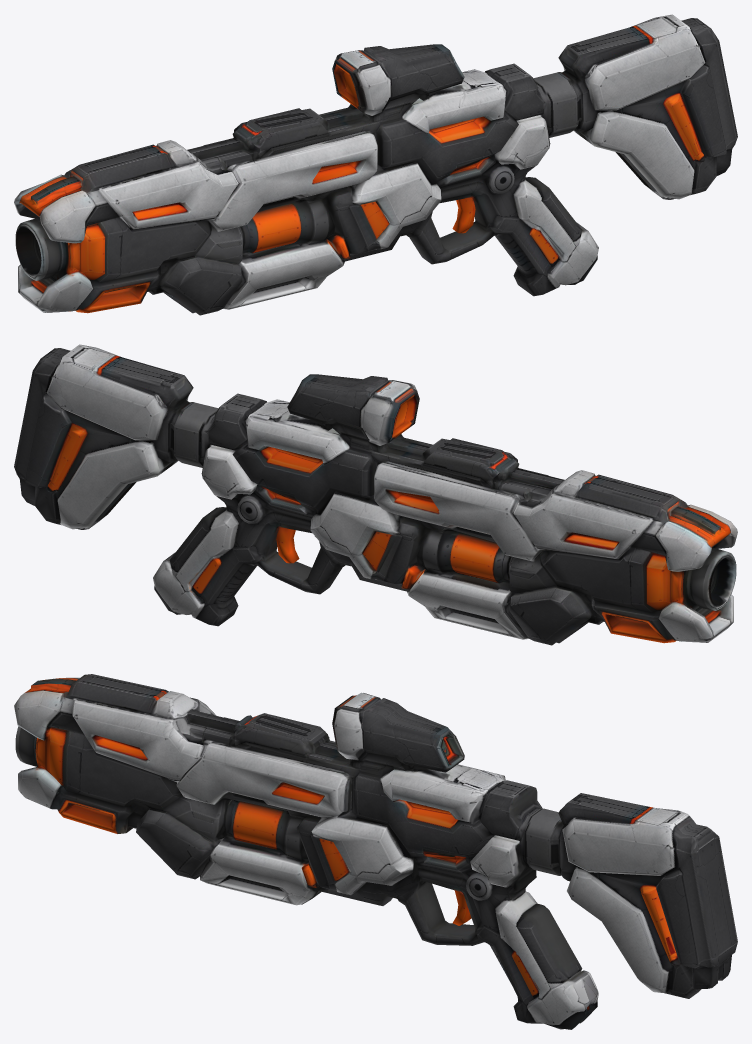
Rendered from gun.glb.
The picture shows the model from 3 angles, top to bottom: view 1: azimuth 30°, elevation 25°; view 2: azimuth 150°, elevation 25°; view 3: azimuth 330°, elevation 25°; orthographic projection.
Visible parts, largest first — view 1: tripo_node_48657ff3-251d-4c8e-9676-596b0e920daf; view 2: tripo_node_48657ff3-251d-4c8e-9676-596b0e920daf; view 3: tripo_node_48657ff3-251d-4c8e-9676-596b0e920daf.
Part boxes in pixels (bbox=[...]): tripo_node_48657ff3-251d-4c8e-9676-596b0e920daf: bbox=[14, 14, 737, 315]; tripo_node_48657ff3-251d-4c8e-9676-596b0e920daf: bbox=[14, 344, 737, 645]; tripo_node_48657ff3-251d-4c8e-9676-596b0e920daf: bbox=[14, 674, 737, 1029].
Size of the model in its own units: 0.9995 by 0.3755 by 0.1157.
1 material, 1 textured.
